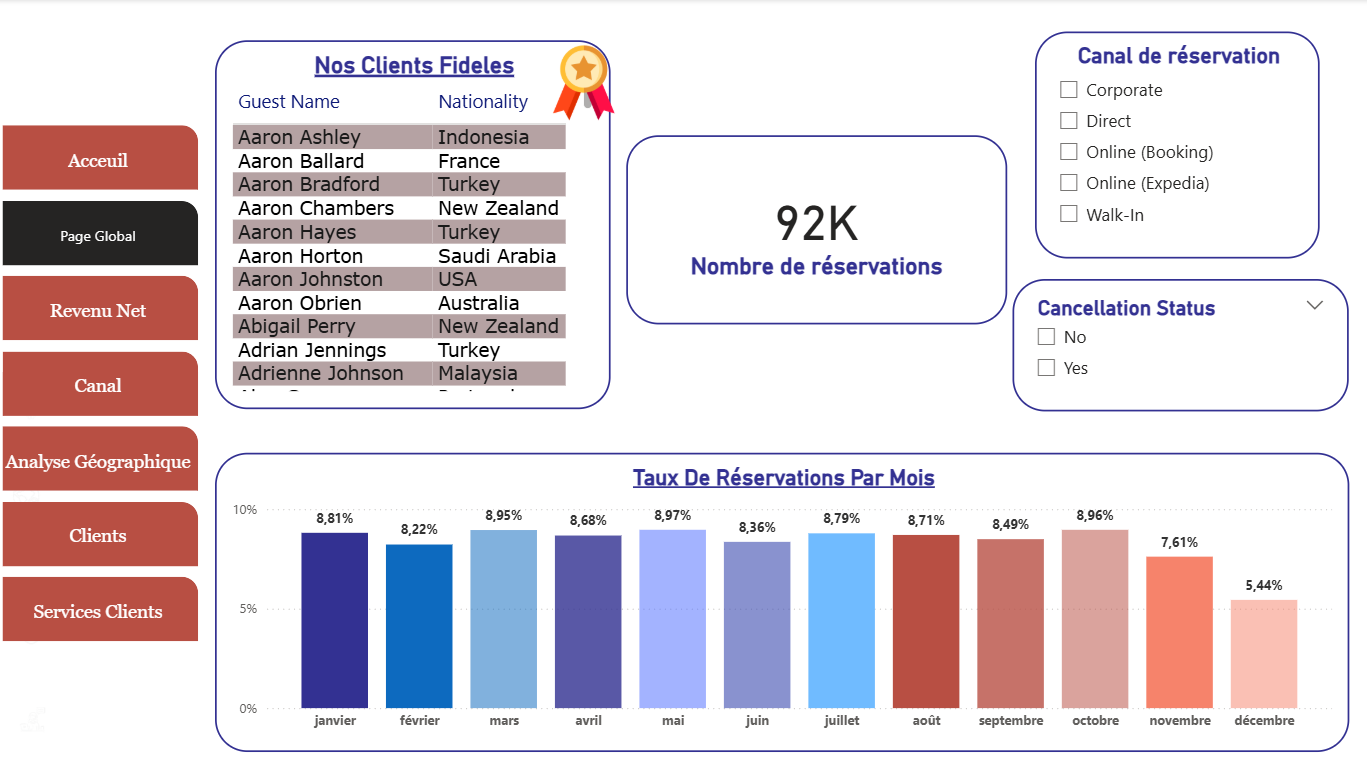

What the dashboard file says about the page in this screenshot:
{"tool":"powerbi","page":{"name":"Page Global","canvas":[1280,720],"ordinal":1},"visuals":[{"type":"tableEx","title":"Nos Clients Fideles ","fields":{"Values":["Dim_Guest.Guest Name","Dim_Guest.Nationality"]},"box":[204.5,38.4,367.8,343.1],"z":1000},{"type":"image","box":[0,126,56.3,91.7],"z":2000},{"type":"image","box":[0,240.9,56.3,80.7],"z":3000},{"type":"image","box":[0,338.7,67.3,83.2],"z":4000},{"type":"image","box":[0,415.8,59.9,102.7],"z":5000},{"type":"image","box":[0,527,70.9,128.4],"z":6000},{"type":"image","box":[7.3,639.5,56.3,80.7],"z":7000},{"type":"card","fields":{"Values":["Fact_Reservation.NbR"]},"box":[587.3,126.2,354,175.6],"z":8000},{"type":"image","box":[507.7,38.4,79.6,79.6],"z":9000},{"type":"clusteredColumnChart","title":"Taux De Réservations Par Mois","fields":{"Category":["DimDate.MonthName"],"Y":["Fact_Reservation.NbR"]},"box":[204.5,422.6,1055.2,278.6],"z":10000},{"type":"slicer","fields":{"Values":["Fact_Reservation.Cancellation Status"]},"box":[946.8,260.7,312.9,123.5],"z":11000},{"type":"slicer","title":"Canal de réservation","fields":{"Values":["Dim_BookingChannel.Booking Channel"]},"box":[967.4,30.2,264.8,211.3],"z":12000},{"type":"pageNavigator","box":[7.3,117.4,182.2,484.2],"z":13000}]}

Visuals, with their boxes in screenshot pixels (x1, y1, x2, y2), scaled from the page's 1280x720 canvas onto the 1367x772 screenshot:
"Nos Clients Fideles " tableEx: {"left": 218, "top": 41, "right": 611, "bottom": 409}
image: {"left": 0, "top": 135, "right": 60, "bottom": 233}
image: {"left": 0, "top": 258, "right": 60, "bottom": 345}
image: {"left": 0, "top": 363, "right": 72, "bottom": 452}
image: {"left": 0, "top": 446, "right": 64, "bottom": 556}
image: {"left": 0, "top": 565, "right": 76, "bottom": 703}
image: {"left": 8, "top": 686, "right": 68, "bottom": 771}
card - Fact_Reservation.NbR: {"left": 627, "top": 135, "right": 1005, "bottom": 324}
image: {"left": 542, "top": 41, "right": 627, "bottom": 127}
"Taux De Réservations Par Mois" clusteredColumnChart: {"left": 218, "top": 453, "right": 1345, "bottom": 752}
slicer - Fact_Reservation.Cancellation Status: {"left": 1011, "top": 280, "right": 1345, "bottom": 412}
"Canal de réservation" slicer: {"left": 1033, "top": 32, "right": 1316, "bottom": 259}
pageNavigator: {"left": 8, "top": 126, "right": 202, "bottom": 645}
